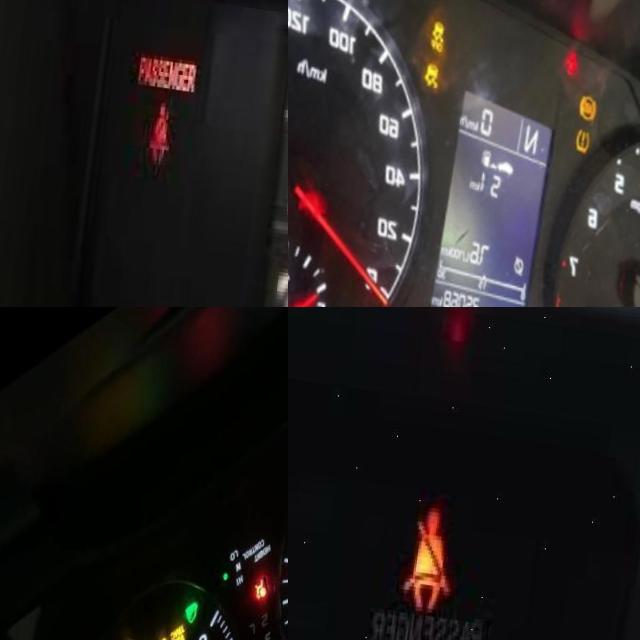Doors: (565, 35, 588, 71)
Seat Belt: (415, 496, 468, 602), (157, 85, 186, 149)
